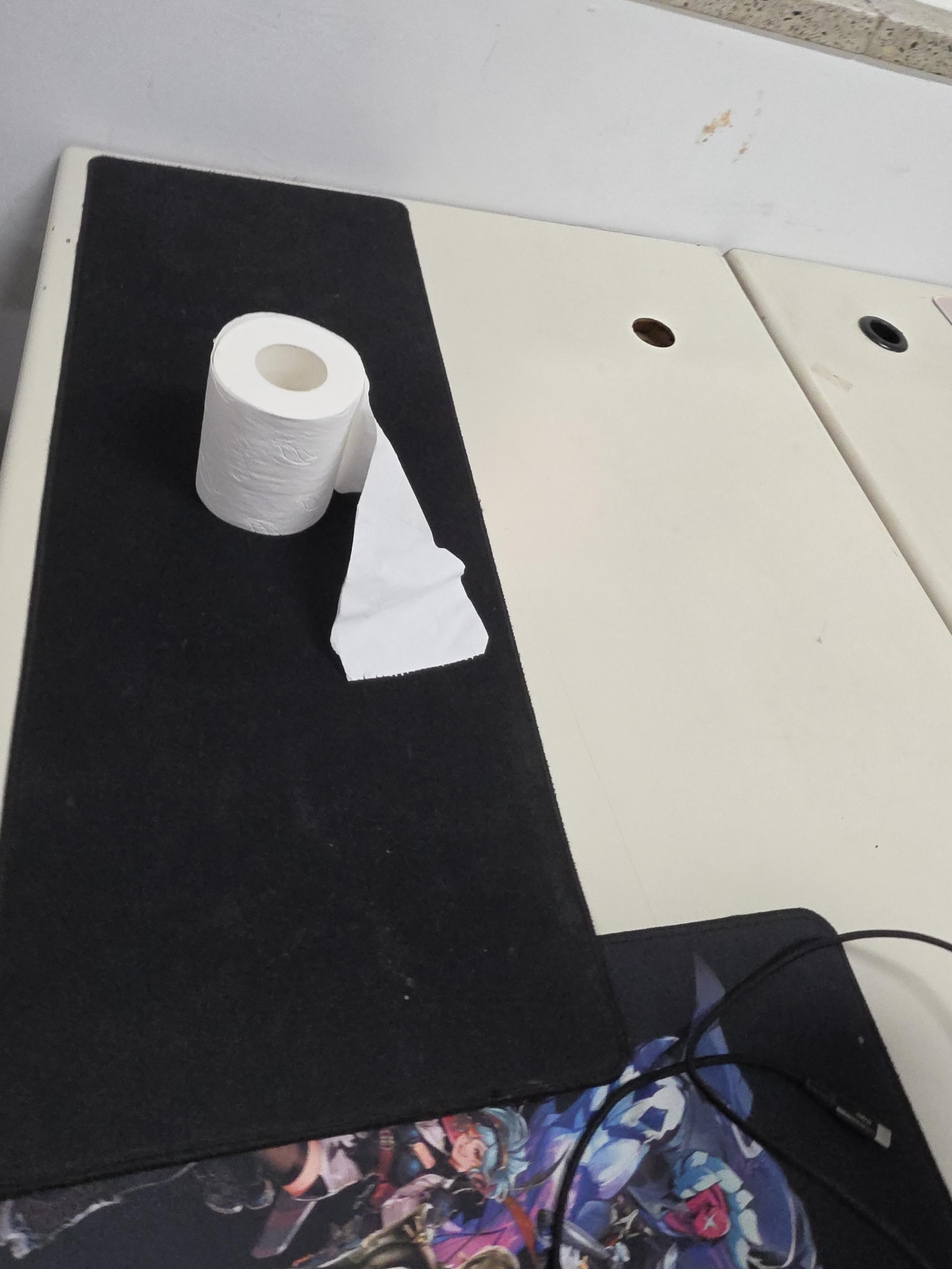tissue: (195, 311, 489, 681)
